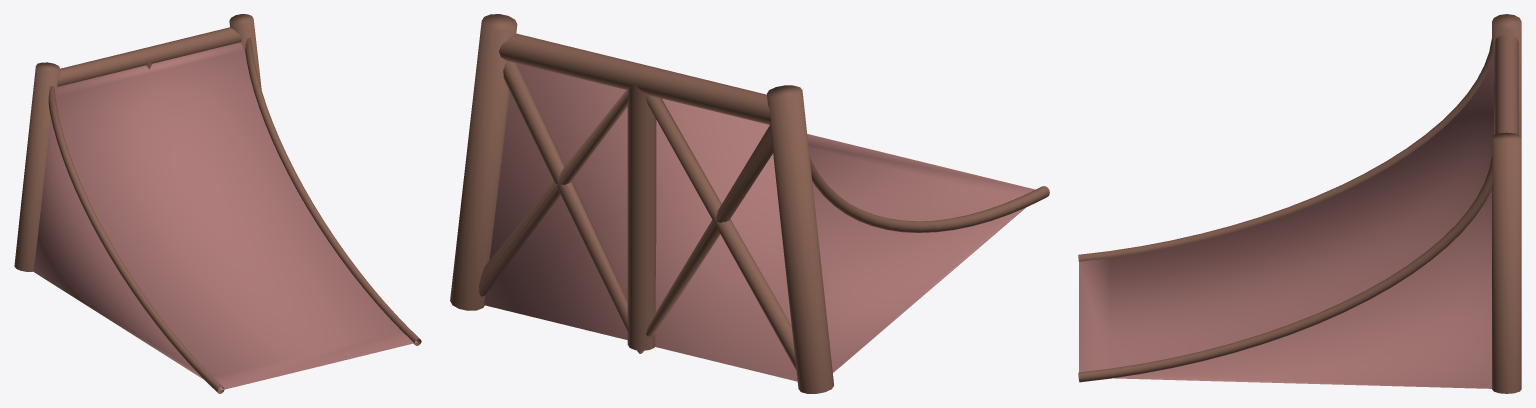
Rendered from DirtJump_Reinforced_Large_kus.fbx.
3 renders of one model, left to right at view 1: azimuth 30°, elevation 25°; view 2: azimuth 150°, elevation 25°; view 3: azimuth 270°, elevation 25°, orthographic. The views are drawn at different scales.
Parts seen in each view (by area): view 1: DirtJump_Reinforced_Large; view 2: DirtJump_Reinforced_Large; view 3: DirtJump_Reinforced_Large.
Boxes of the visible parts, box(x1,y1,x2,y2) form: DirtJump_Reinforced_Large: box(14, 14, 421, 393); DirtJump_Reinforced_Large: box(450, 14, 1049, 393); DirtJump_Reinforced_Large: box(1078, 14, 1521, 393).
Bounding box in the file's own units: 1829 × 1373 × 2229.
